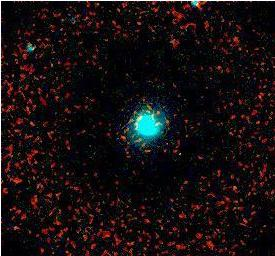star: (158, 25, 188, 55)
